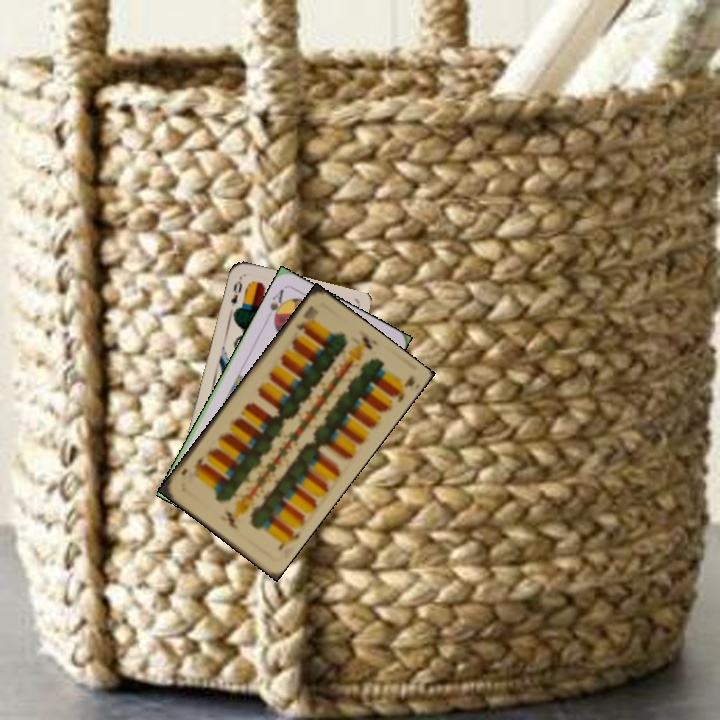E10: (291, 302, 317, 335), (274, 527, 303, 553)
EO: (226, 277, 245, 309)
SA: (266, 285, 289, 325)
